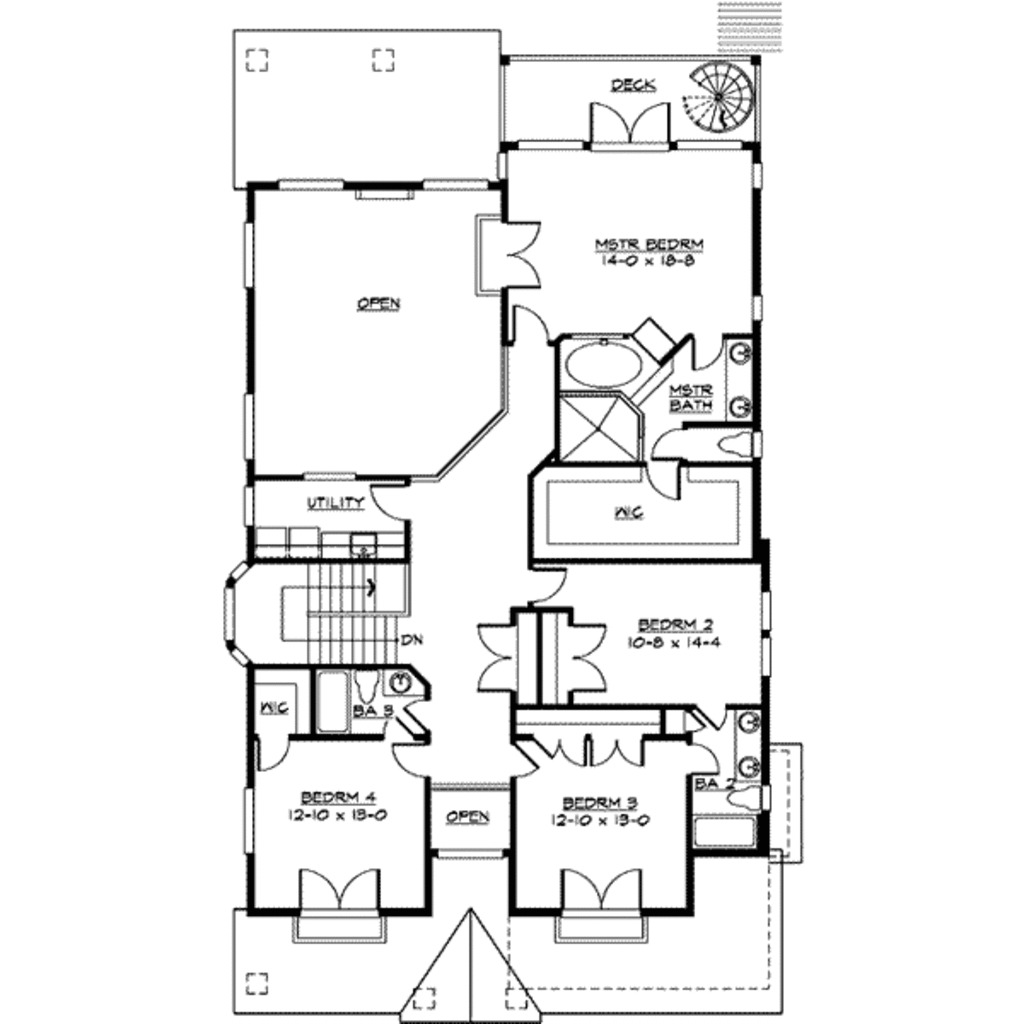door: (542, 862, 663, 943), (290, 860, 391, 943), (577, 85, 677, 165), (466, 216, 553, 297), (552, 609, 617, 705), (474, 616, 521, 705), (490, 300, 553, 351), (358, 476, 417, 525), (583, 732, 653, 771), (536, 732, 591, 774), (523, 568, 578, 609), (388, 739, 436, 782), (685, 332, 728, 379), (642, 454, 683, 500), (647, 425, 693, 462), (253, 732, 294, 771), (683, 741, 721, 776), (505, 741, 537, 782), (402, 698, 431, 733)
large_sink: (715, 785, 775, 814), (717, 427, 764, 463), (353, 665, 382, 705)
small_sink: (729, 711, 766, 784), (728, 335, 758, 417), (385, 663, 420, 692)
stairs: (258, 563, 425, 668), (669, 54, 761, 144)
tub: (312, 670, 353, 741)
window: (223, 555, 258, 681), (229, 384, 266, 462), (271, 170, 347, 206), (229, 781, 261, 858), (237, 216, 263, 293)
